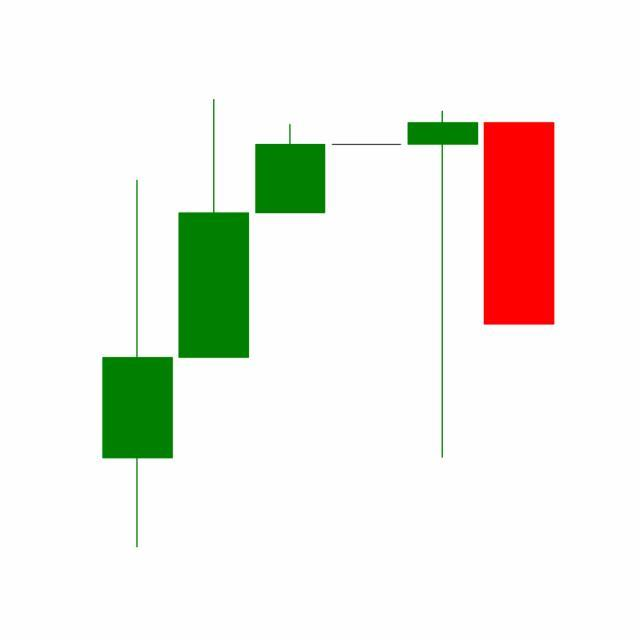Hanging Man: (404, 107, 482, 462)
